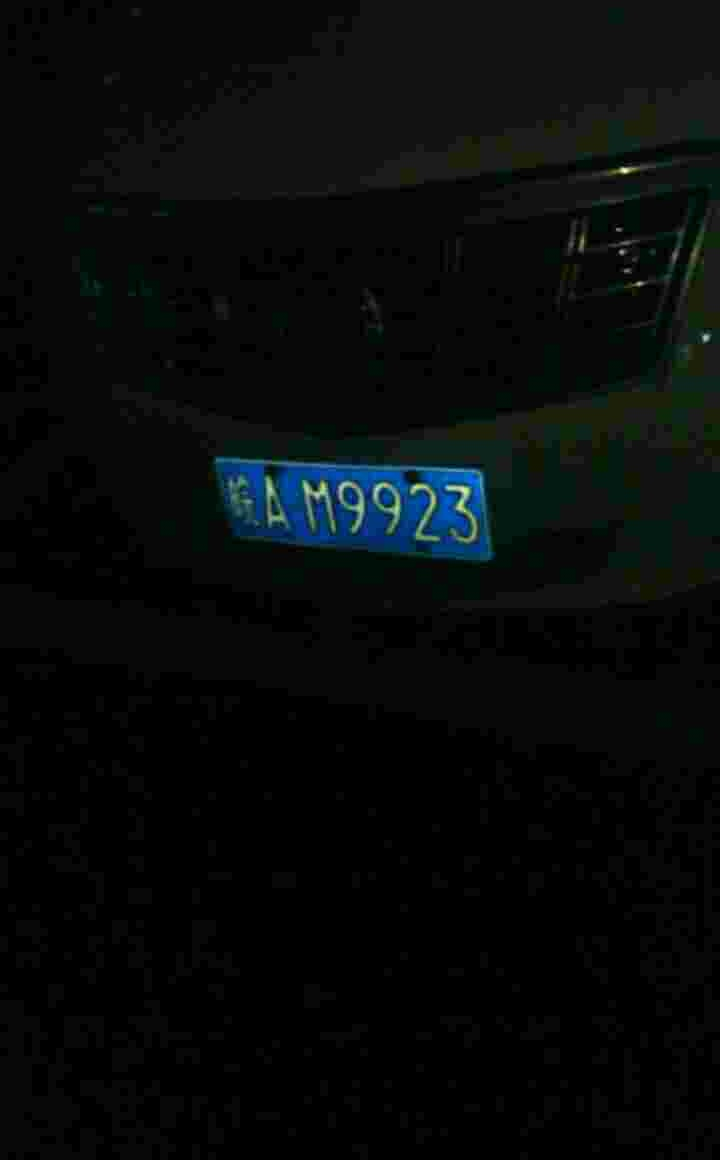license_plate: (224, 459, 483, 565)
